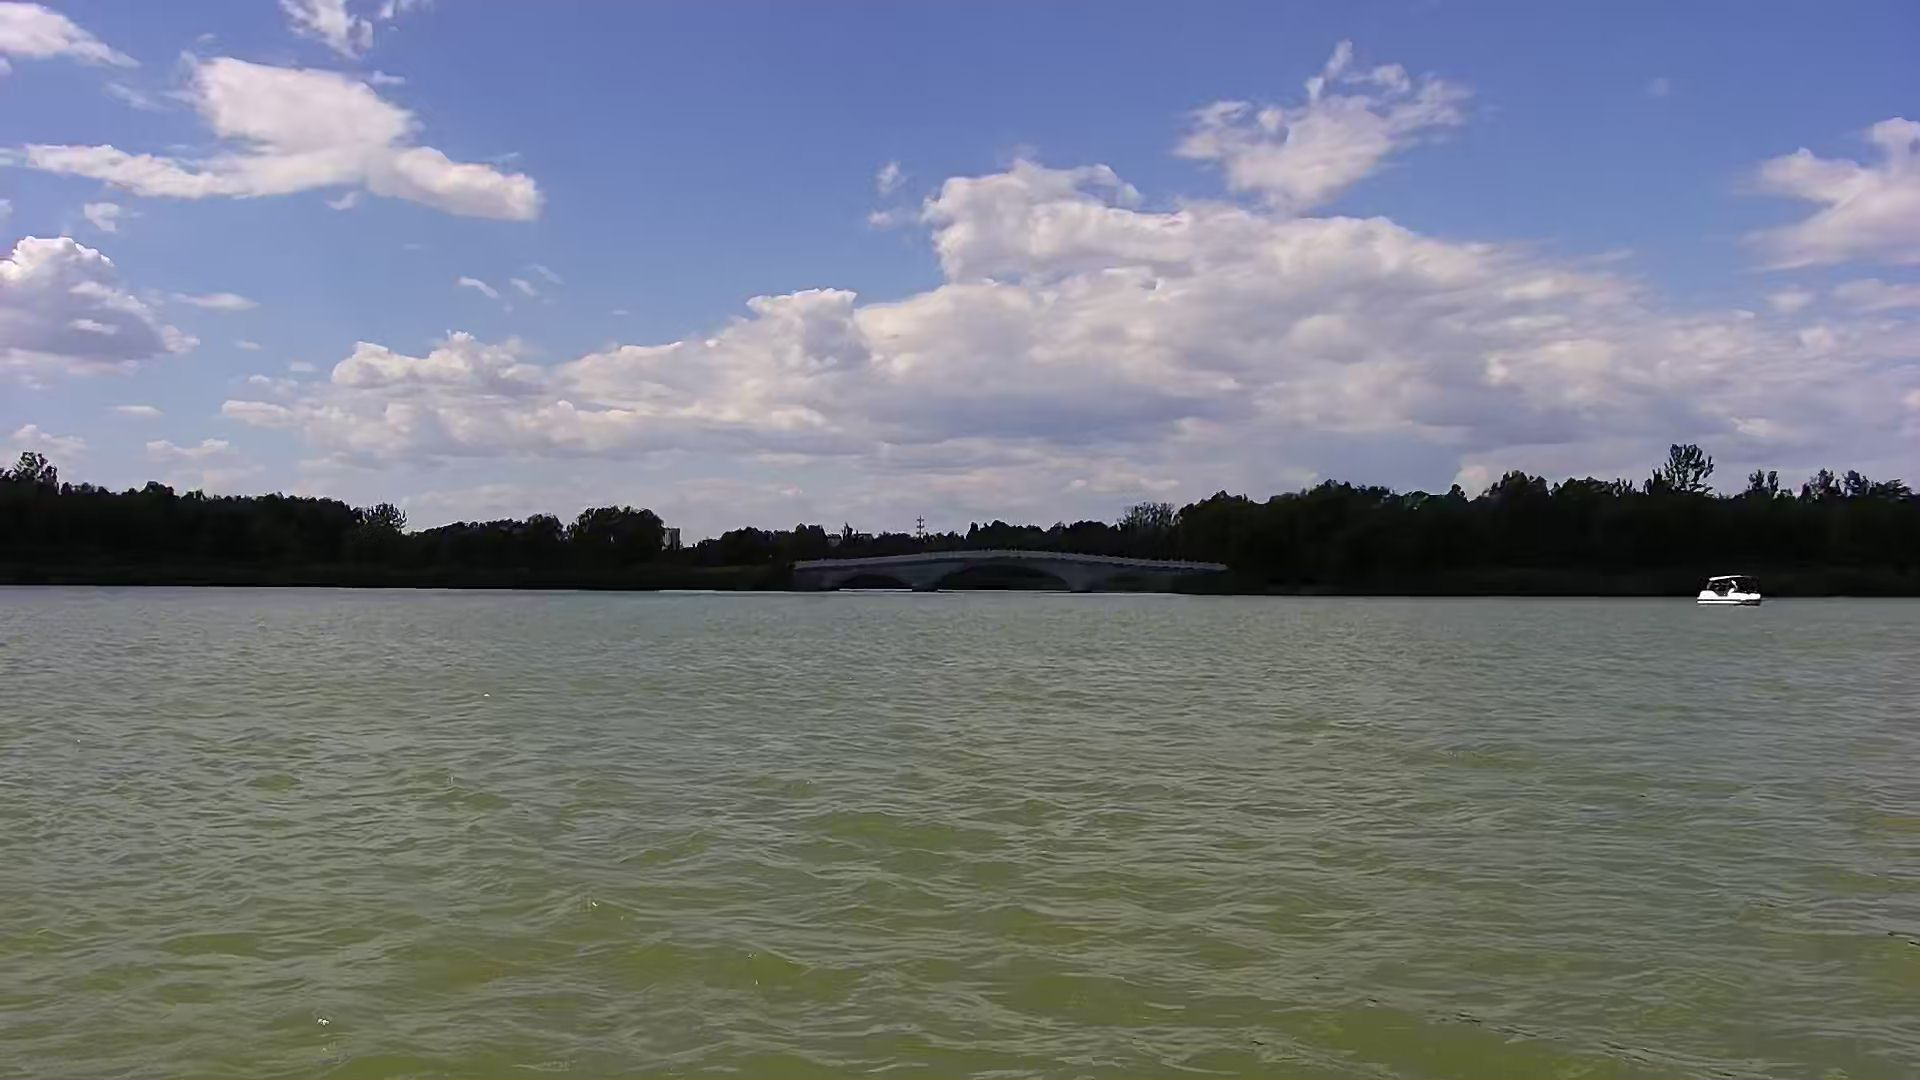boat: (1695, 571, 1764, 612)
bridge: (796, 546, 1225, 607)
